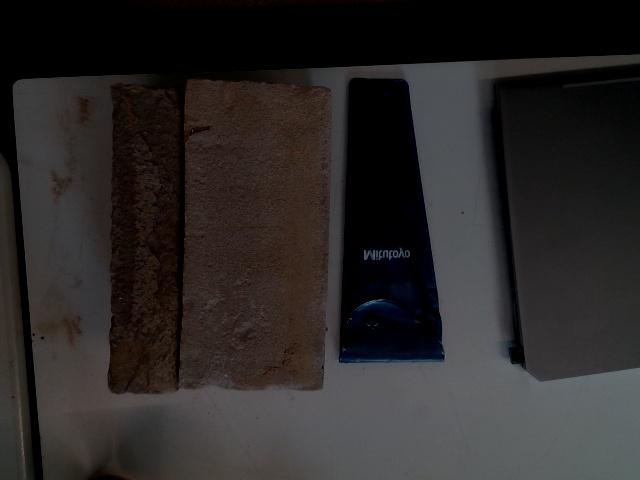brick: (176, 81, 332, 388)
